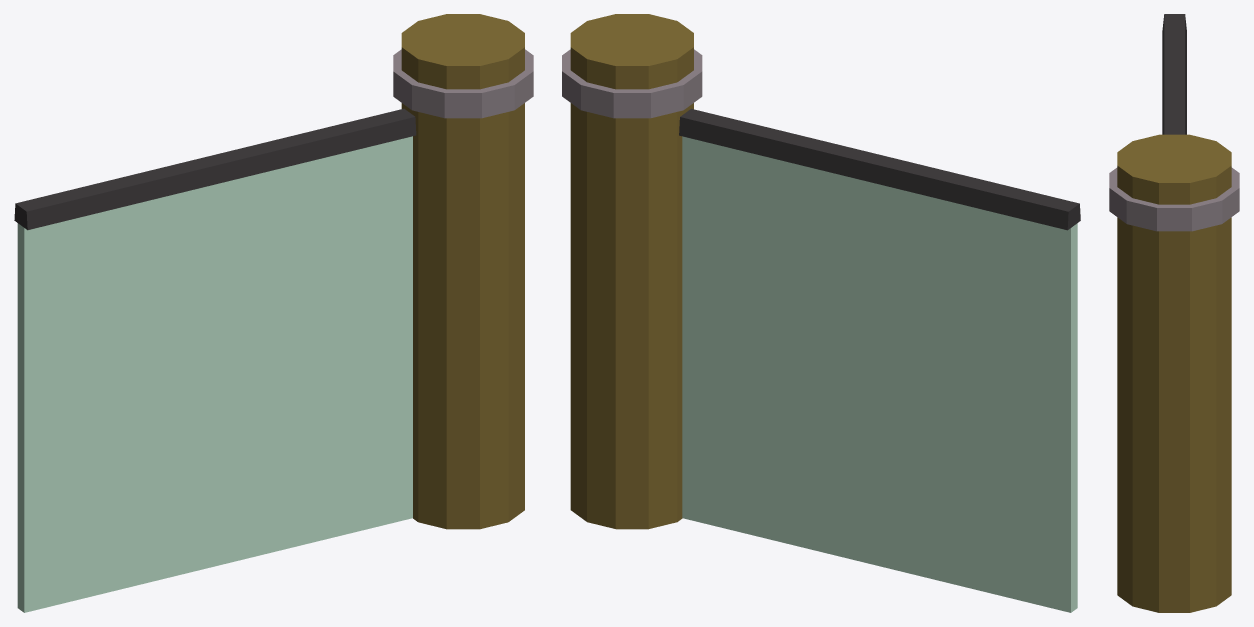
Rendered from Log_Fence_2m.fbx.
3 views of the same model, side by side, from view 1: azimuth 30°, elevation 25°; view 2: azimuth 150°, elevation 25°; view 3: azimuth 270°, elevation 25° (orthographic). The views are drawn at different scales.
Parts seen in each view (by area): view 1: Fence_Log_2m_Glass, Fence_Log_2m; view 2: Fence_Log_2m_Glass, Fence_Log_2m; view 3: Fence_Log_2m.
Boxes of the visible parts, box(x1,y1,x2,y2) form: Fence_Log_2m_Glass: box(17, 136, 412, 612); Fence_Log_2m: box(14, 14, 533, 529); Fence_Log_2m_Glass: box(682, 136, 1077, 612); Fence_Log_2m: box(562, 14, 1080, 529); Fence_Log_2m: box(1109, 14, 1239, 612).
Bounding box in the file's own units: 227 × 200 × 54.93.
